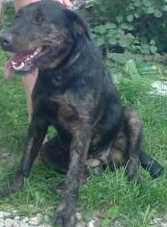dog: (6, 5, 162, 197)
